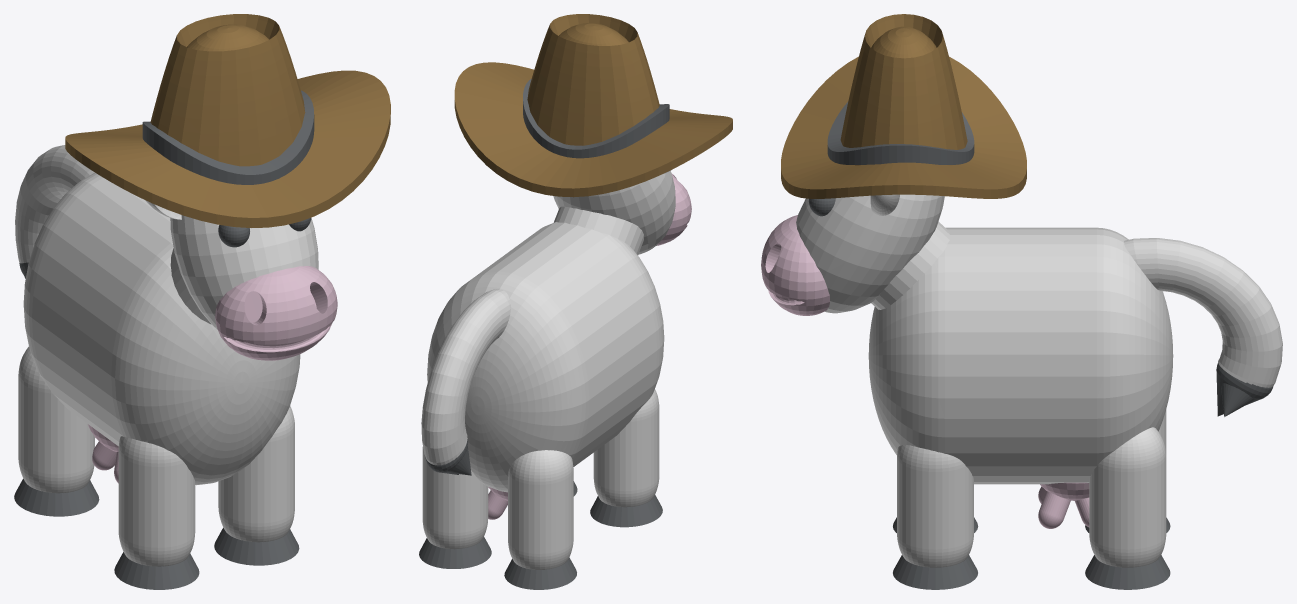
File: asset.glb
The picture shows the model from 3 angles, left to right: view 1: azimuth 30°, elevation 25°; view 2: azimuth 150°, elevation 25°; view 3: azimuth 270°, elevation 25°; orthographic projection. The views are drawn at different scales.
Visible parts, largest first — view 1: Mesh_Mesh_head_geo.001_lambert2SG.001; view 2: Mesh_Mesh_head_geo.001_lambert2SG.001; view 3: Mesh_Mesh_head_geo.001_lambert2SG.001.
Boxes of the visible parts, bbox=[...] form: Mesh_Mesh_head_geo.001_lambert2SG.001: bbox=[14, 14, 390, 589]; Mesh_Mesh_head_geo.001_lambert2SG.001: bbox=[419, 14, 732, 589]; Mesh_Mesh_head_geo.001_lambert2SG.001: bbox=[761, 14, 1282, 589].
Bounding box in the file's own units: 31 × 53.72 × 48.86.
